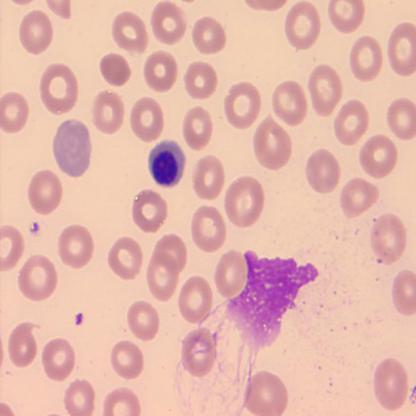NRC: (146, 138, 186, 189)
